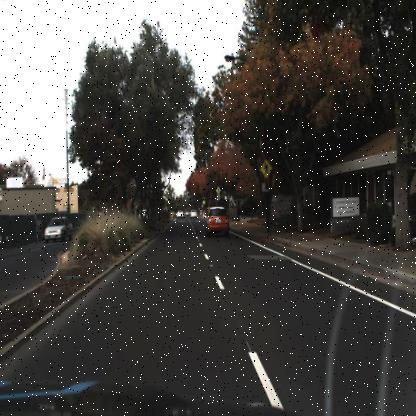car: (39, 213, 77, 248), (204, 206, 233, 234)
